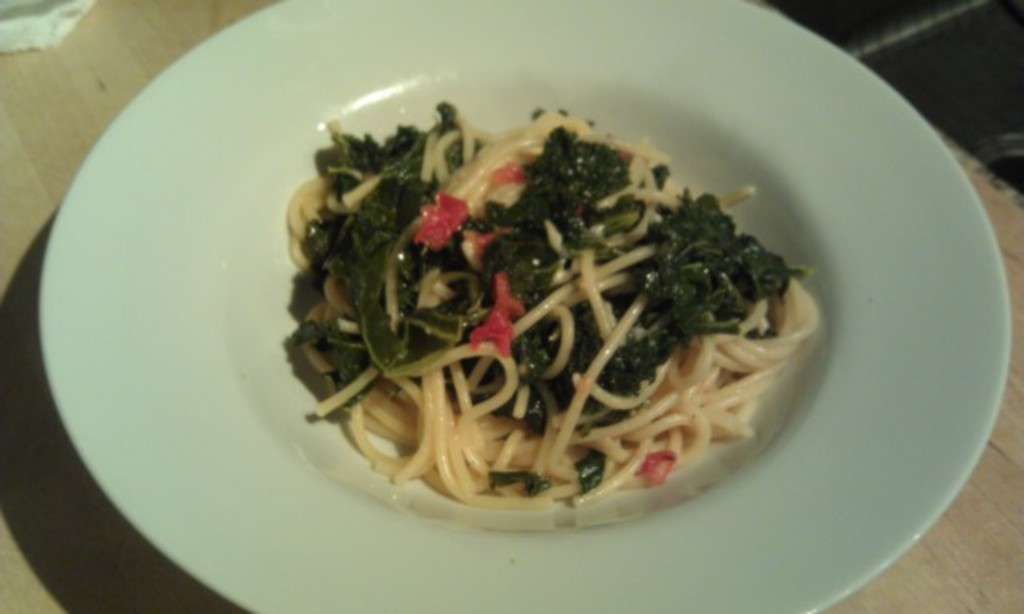pasta: (277, 110, 794, 508)
